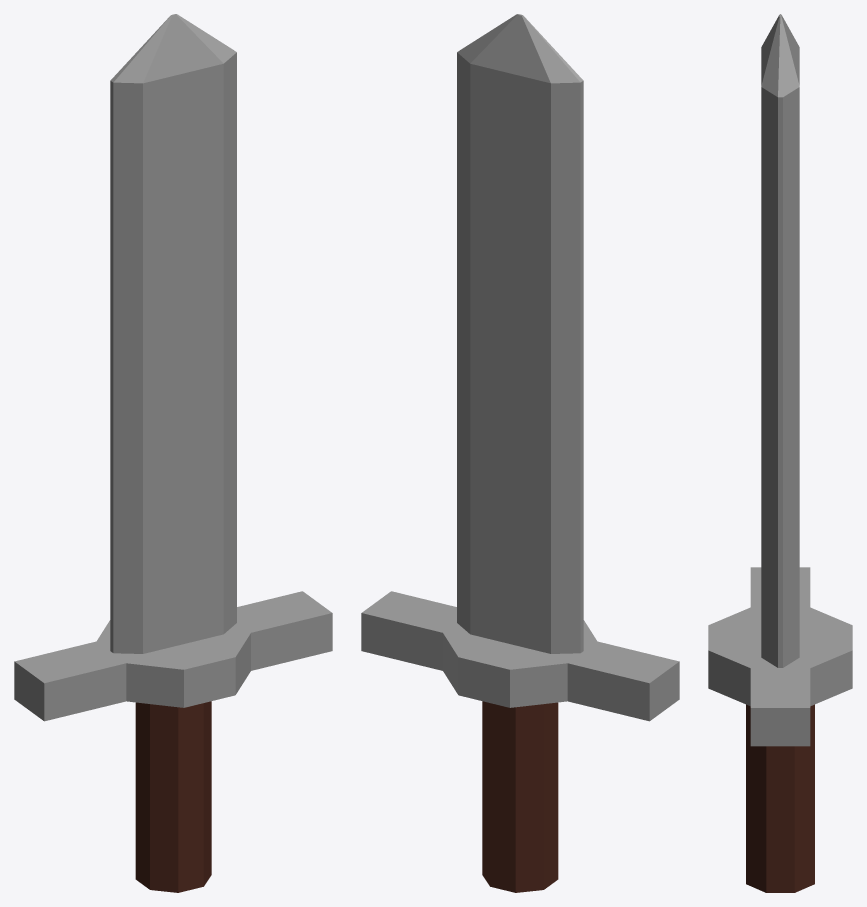
Rendered from Sword.glb.
3 renders of one model, left to right at view 1: azimuth 30°, elevation 25°; view 2: azimuth 150°, elevation 25°; view 3: azimuth 270°, elevation 25°, orthographic.
Visible parts, largest first — view 1: Cylinder; view 2: Cylinder; view 3: Cylinder.
Part boxes in pixels (box(x1,y1,x2,y2)): Cylinder: box(14, 14, 332, 892); Cylinder: box(361, 14, 679, 892); Cylinder: box(708, 14, 852, 892).
Bounding box in the file's own units: 0.5973 × 1.71 × 0.2585.
